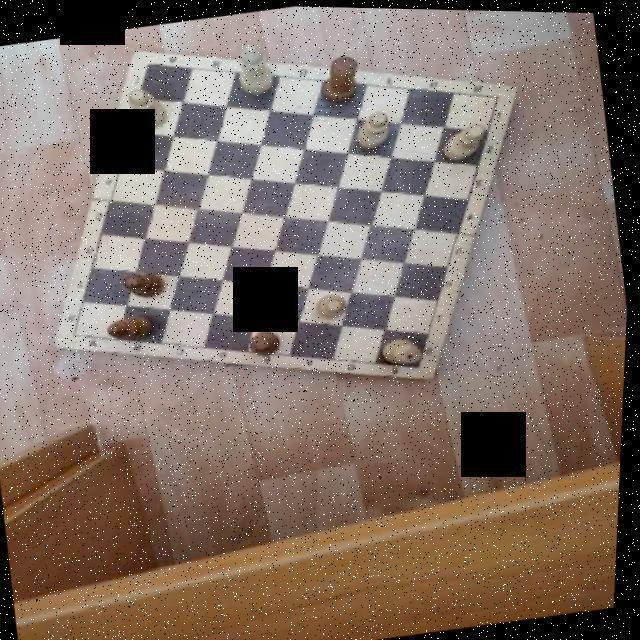chess-table-corners: (125, 44, 173, 82), (476, 75, 518, 114), (399, 344, 444, 380), (58, 316, 100, 354)
